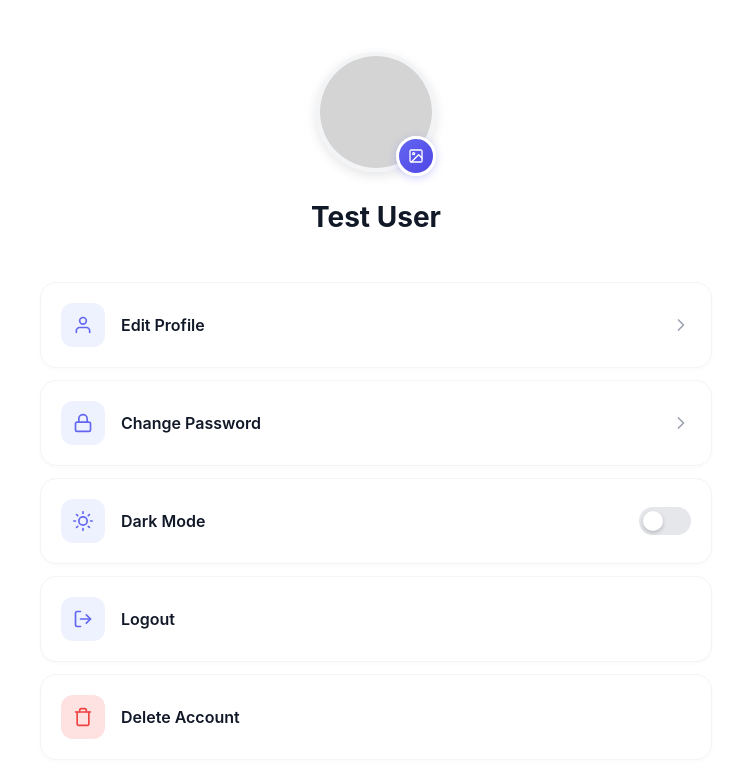
MyProfilePage - Change Password › should display all password input fields
Check: the text "Change Password" is shown, box [121,413,261,433]
Click the button "Change Password". click: click(83, 423)
box: [40,380,712,466]
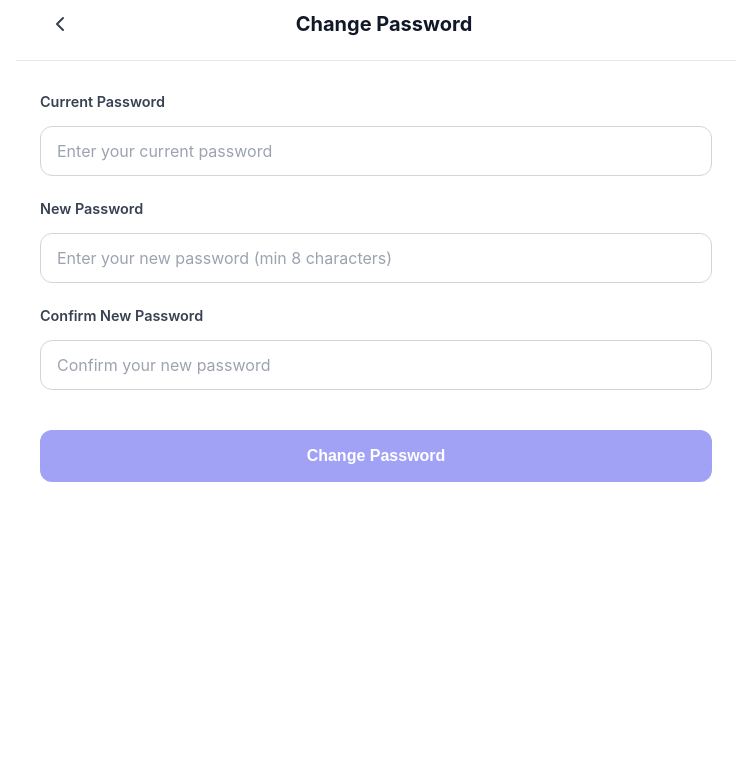
Check: the password field labelled "Current Password" is shown, box [40,126,712,176]
Check: the password field labelled "New Password" is shown, box [40,233,712,283]
Check: the password field labelled "Confirm New Password" is shown, box [40,340,712,390]
